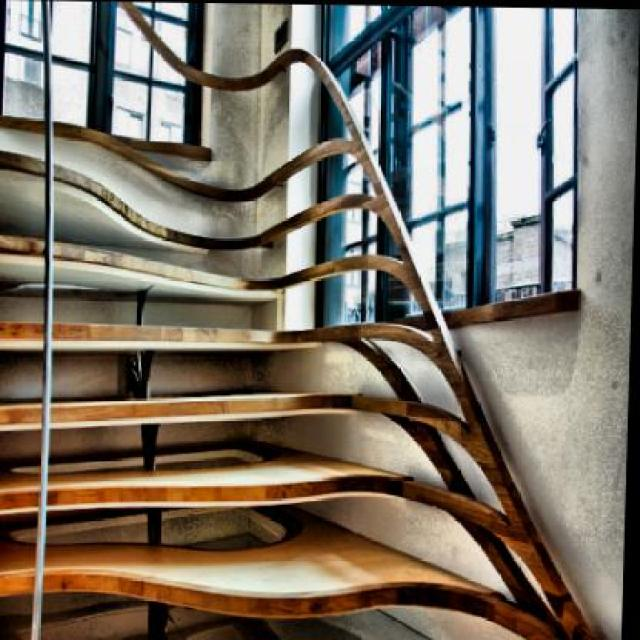stair: (0, 0, 360, 638)
